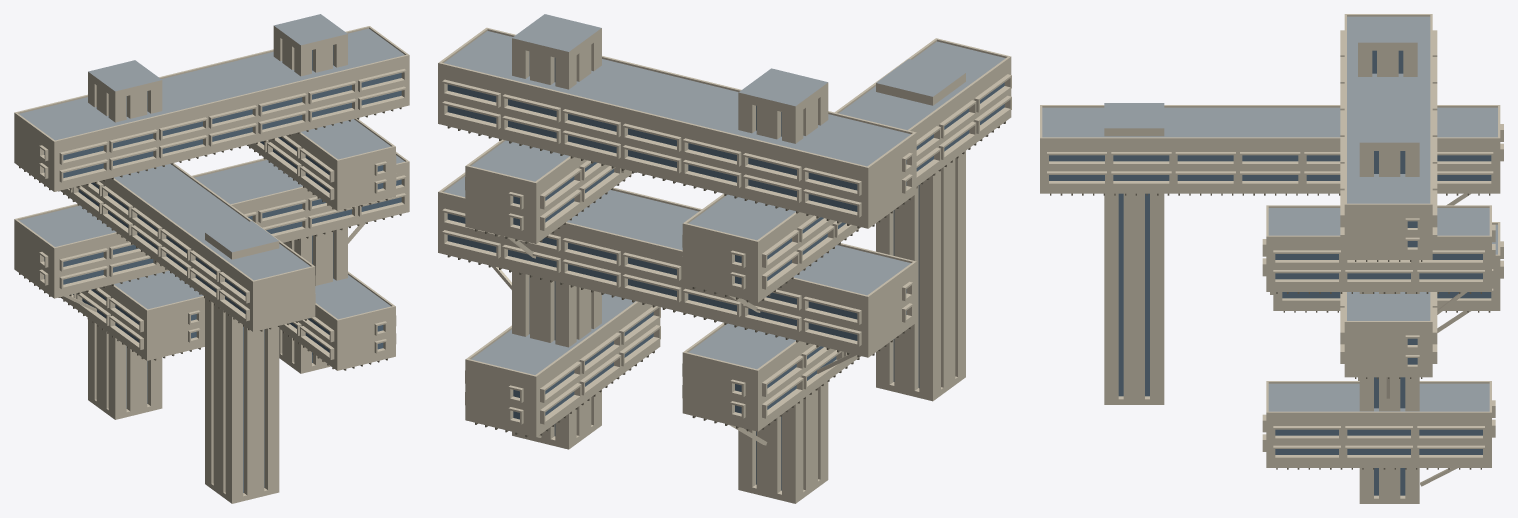
Rendered from tbilisi-bank-of-georgia-hq.detail.glb.
3 renders of one model, left to right at view 1: azimuth 30°, elevation 25°; view 2: azimuth 150°, elevation 25°; view 3: azimuth 270°, elevation 25°, orthographic. The views are drawn at different scales.
Visible parts, largest first — view 1: Bank of Georgia Headquarters; view 2: Bank of Georgia Headquarters; view 3: Bank of Georgia Headquarters.
Part boxes in pixels (bbox=[...]): Bank of Georgia Headquarters: bbox=[14, 14, 409, 503]; Bank of Georgia Headquarters: bbox=[438, 14, 1011, 503]; Bank of Georgia Headquarters: bbox=[1040, 14, 1503, 503].
Size of the model in its own units: 76.6 by 66.6 by 77.5.
